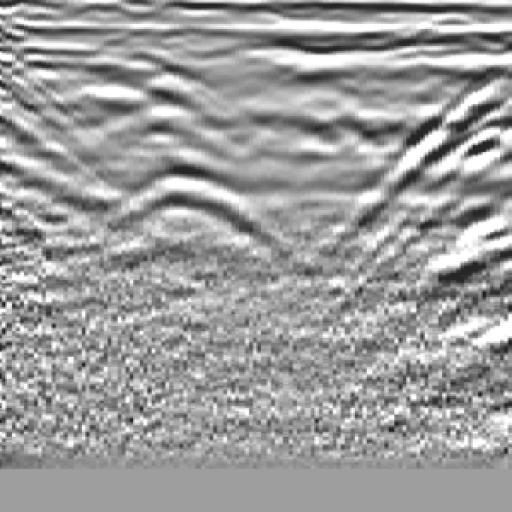metalic: (105, 40, 267, 292)
nonmetalic: (399, 45, 512, 312)
